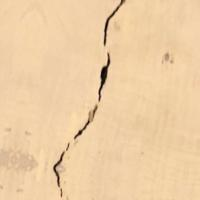crack: (43, 0, 144, 199)
